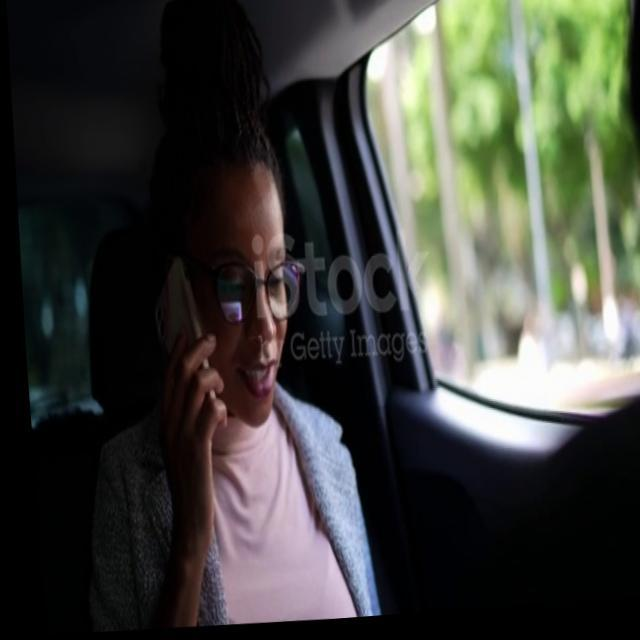PhoneCall: (142, 260, 222, 442)
